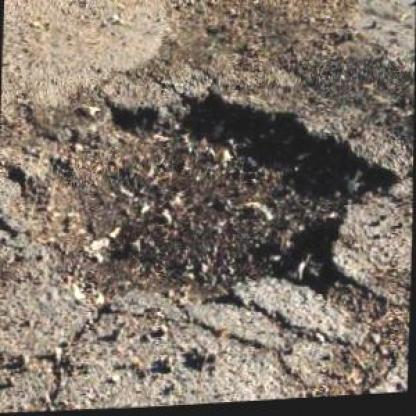pothole: (7, 78, 403, 320)
